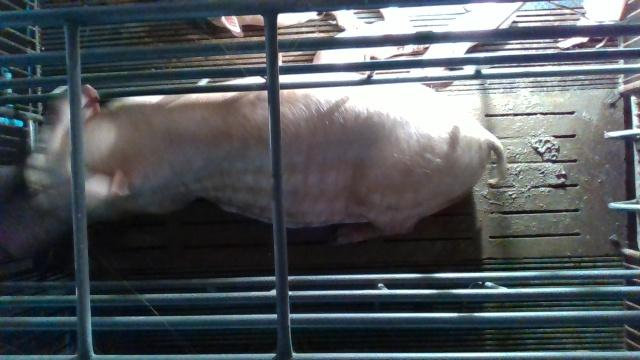piglet: (413, 2, 523, 71), (312, 7, 429, 65)
sow-sit: (10, 72, 505, 240)
